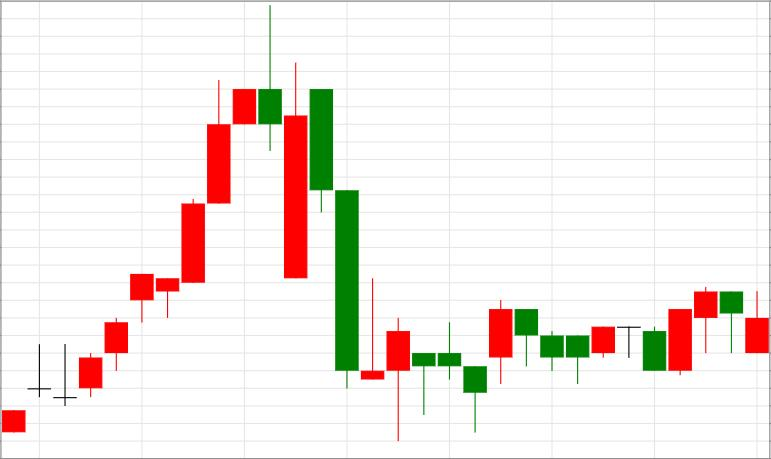morning_star_rise: (310, 88, 411, 441)
shooting_star_fall: (80, 6, 281, 397)
